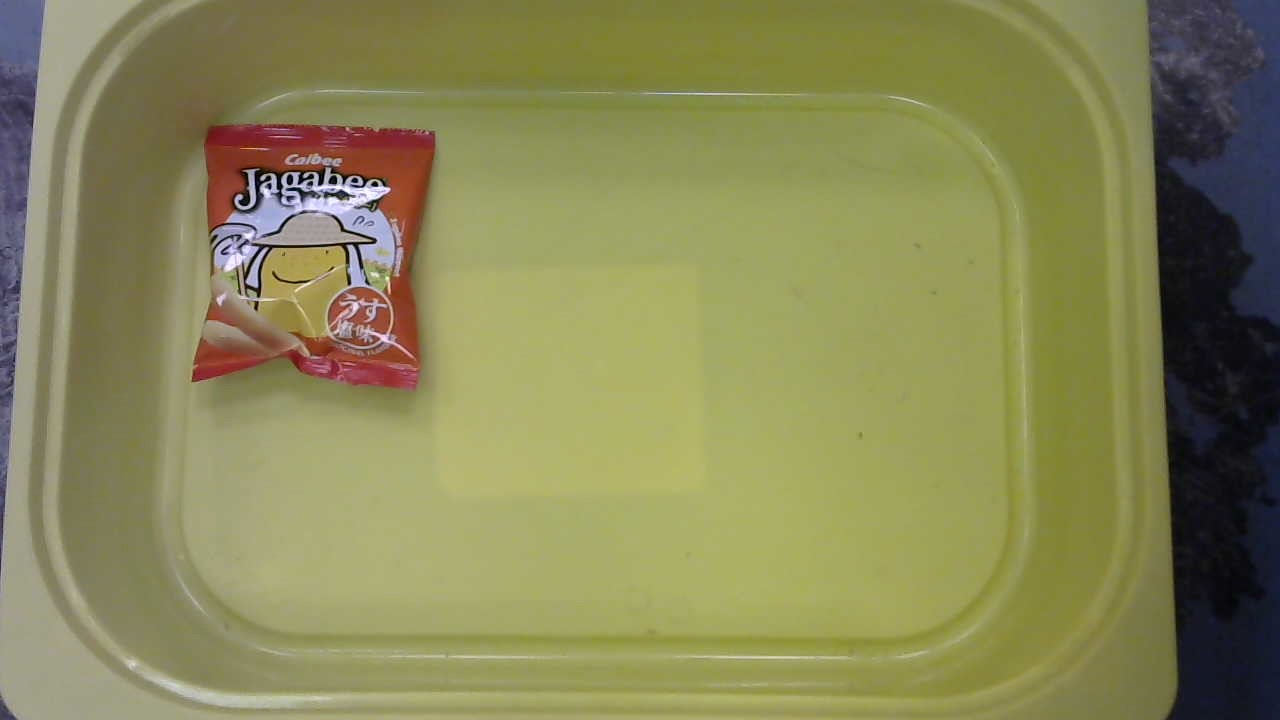JagabeeFarmer: (184, 115, 445, 397)
